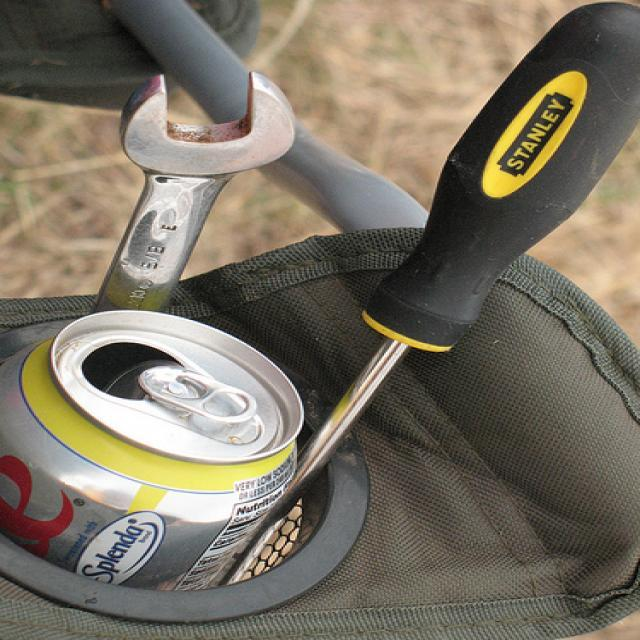screwdriver: (218, 24, 640, 576)
wrench: (77, 61, 298, 337)
